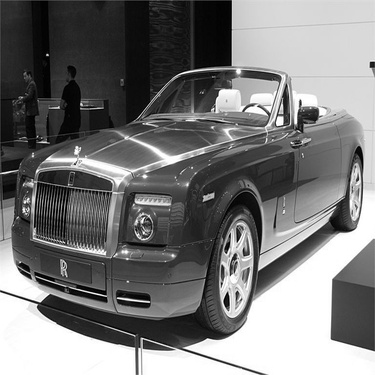car: (3, 56, 368, 341)
